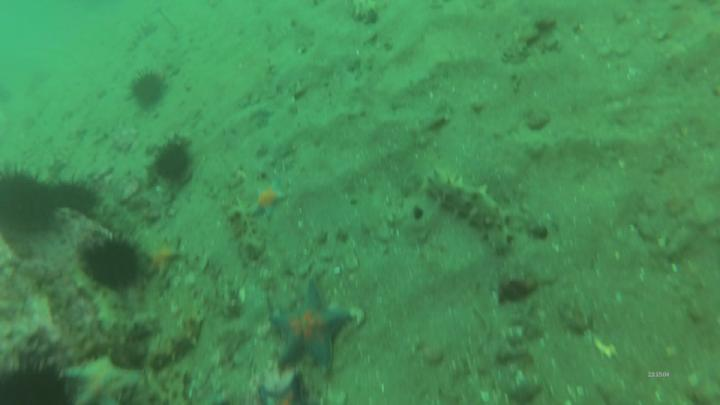echinus: (78, 230, 146, 296), (1, 164, 57, 240), (1, 357, 74, 405), (46, 173, 105, 221), (149, 130, 194, 187), (126, 69, 174, 113)
holothurian: (419, 165, 518, 256), (136, 311, 205, 372), (226, 197, 266, 264), (203, 255, 242, 319)
starfish: (265, 274, 353, 378), (142, 241, 184, 282), (251, 179, 288, 222), (253, 380, 313, 405)
